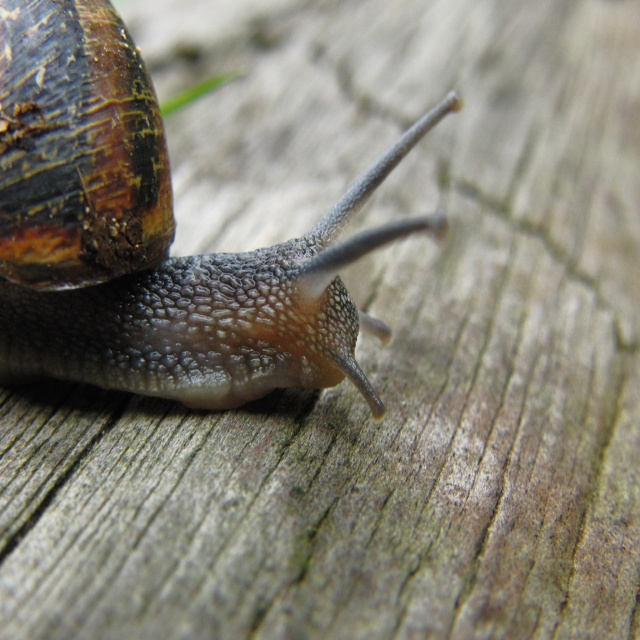Snail: (0, 0, 465, 424)
